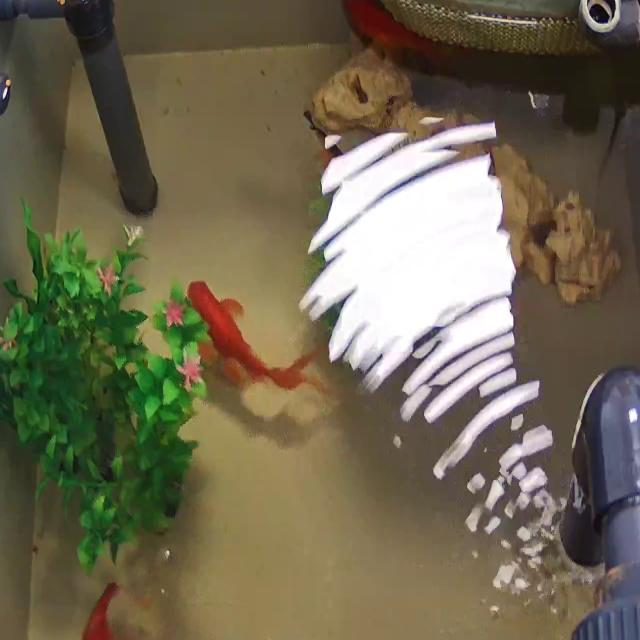fish: (189, 279, 323, 398), (343, 0, 448, 63), (75, 580, 132, 640)
